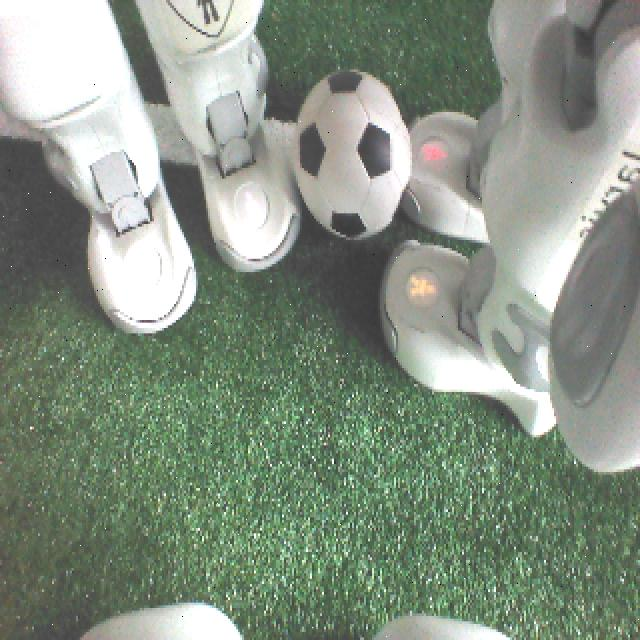ball: (284, 64, 416, 251)
